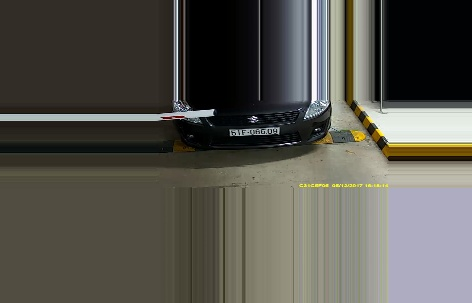plate: (225, 123, 280, 138)
